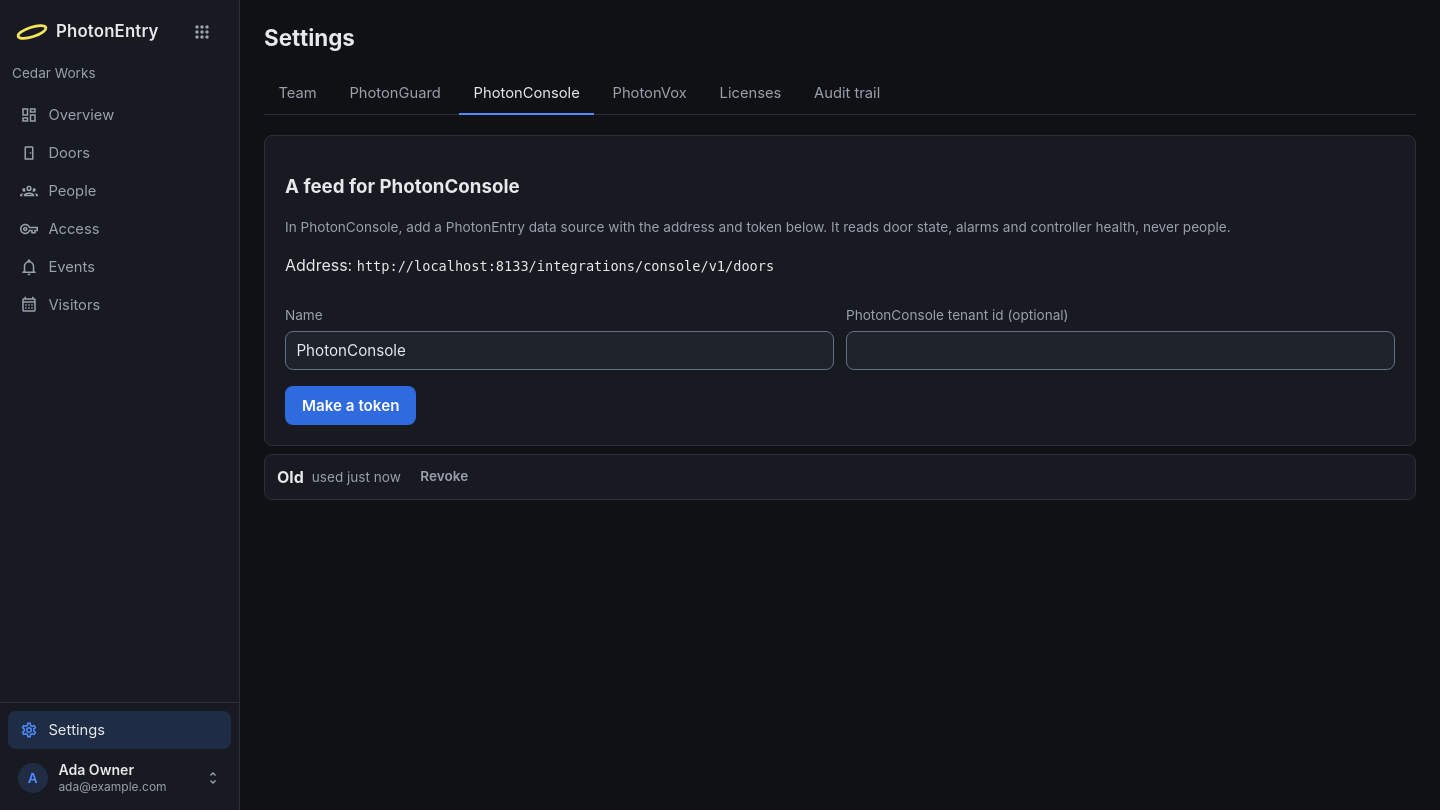
PhotonConsole settings › makes a token shown once and revokes one
Check: the text "Old" is shown, box top-left (277, 465), bottom-right (304, 489)
Type "ct-1" into the field labelled "PhotonConsole tenant id (optional)" at (1120, 351), box top-left (846, 332), bottom-right (1395, 370)
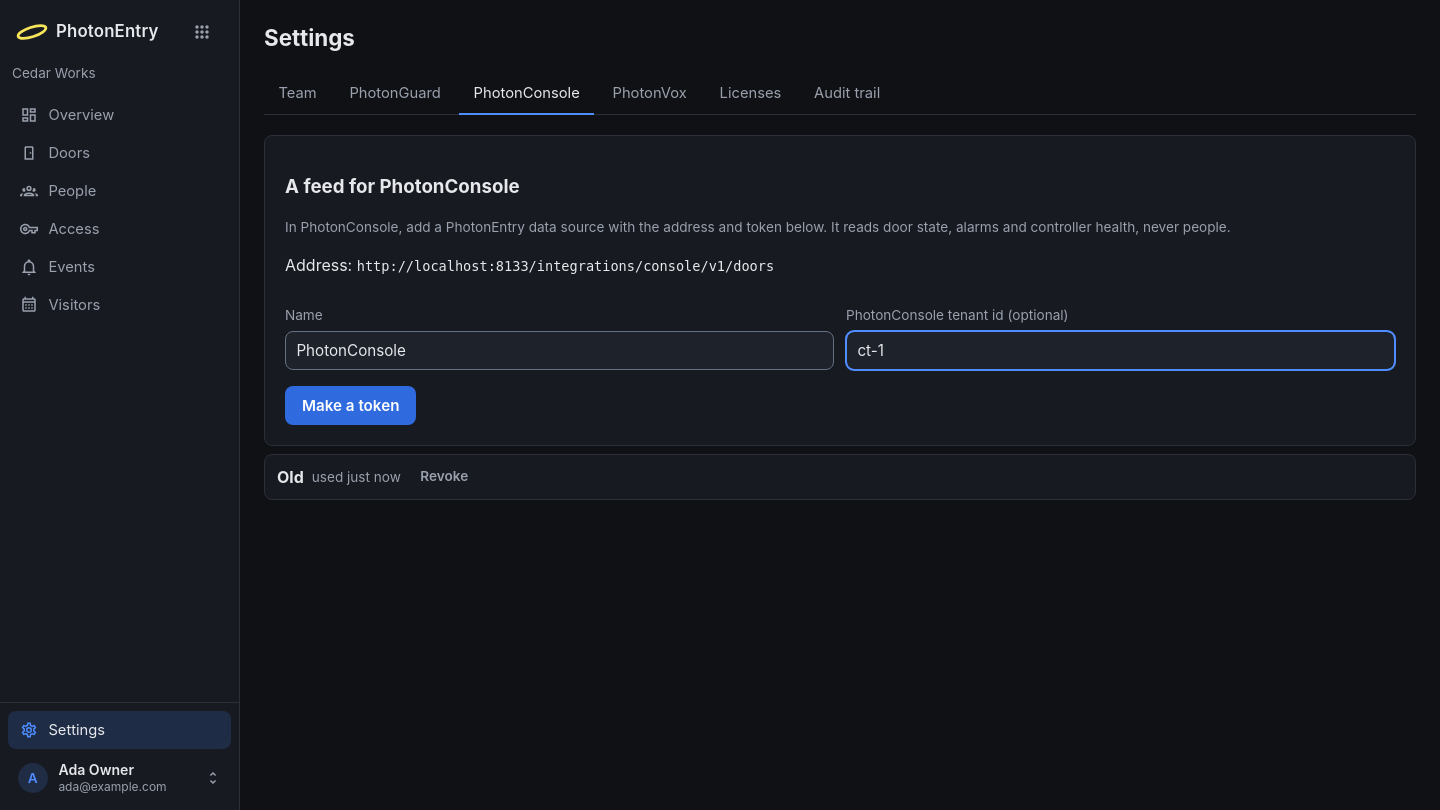
Click the button "Make a token" at (351, 405), box top-left (285, 386), bottom-right (416, 425)
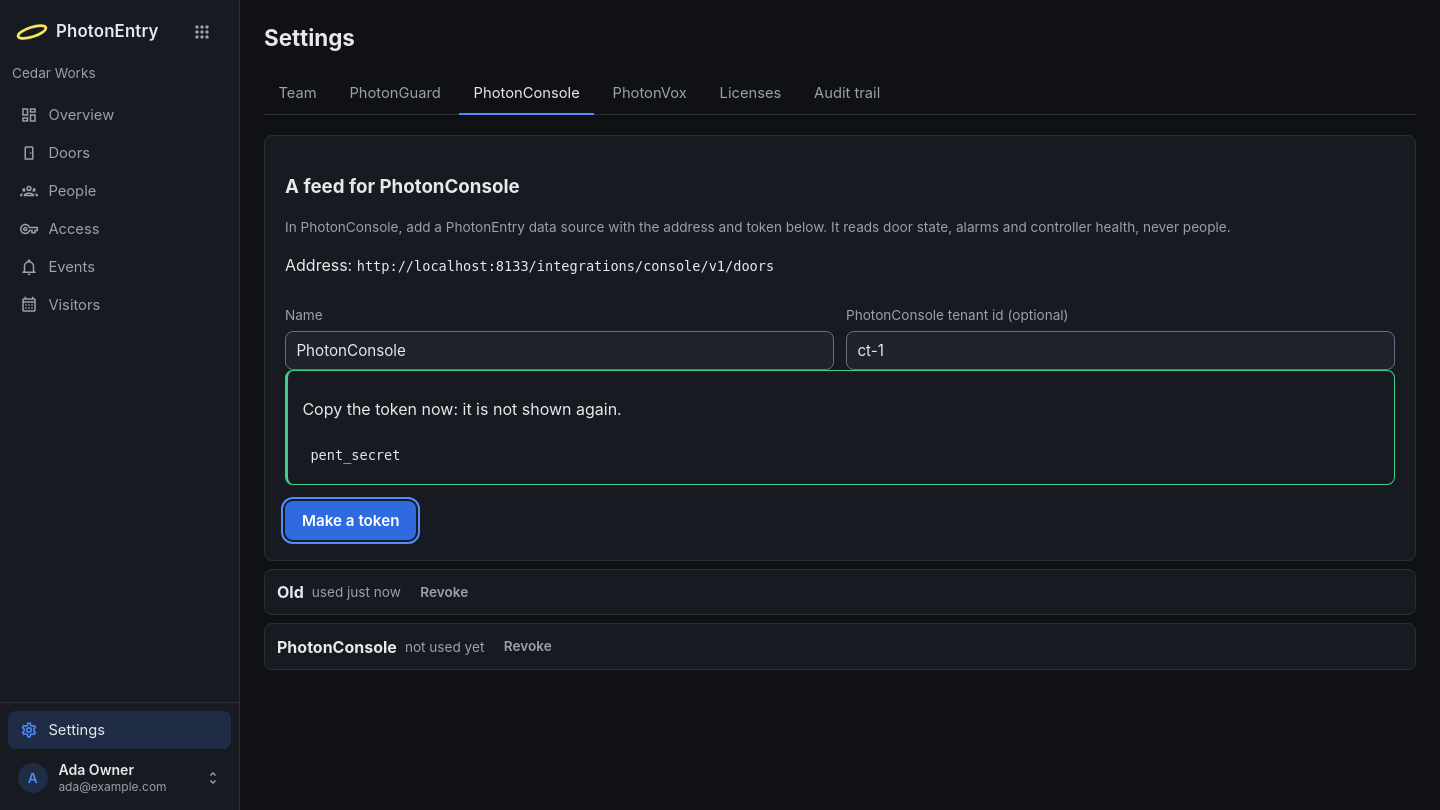
Check: the text "pent_secret" is shown, box top-left (302, 438), bottom-right (1380, 474)
Check: the text "not used yet" is shown, box top-left (405, 636), bottom-right (484, 657)
Click the button "Revoke" in the row of "Old" at (444, 592), box top-left (409, 578), bottom-right (480, 606)
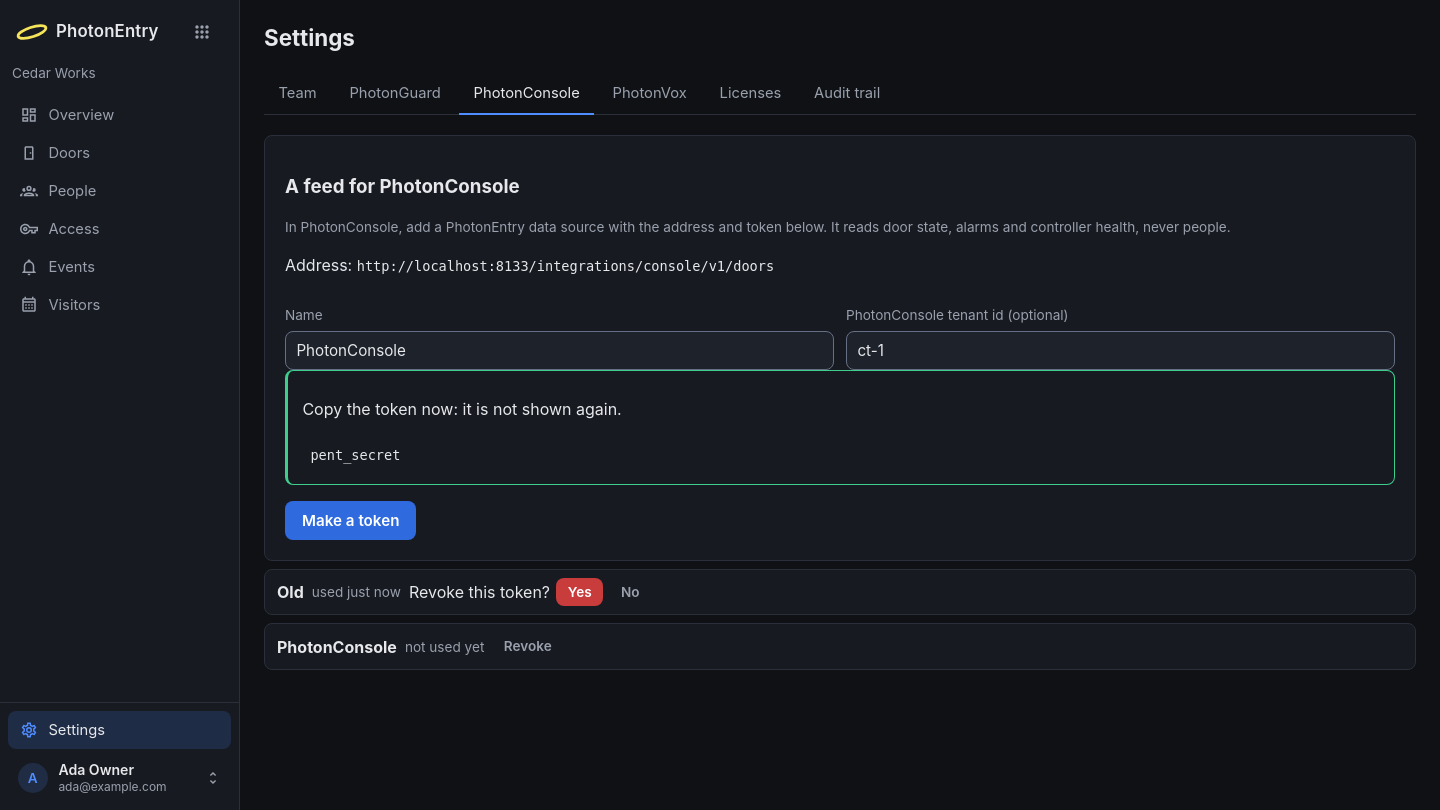
Click the button "Yes" at (580, 592), box top-left (556, 578), bottom-right (603, 606)
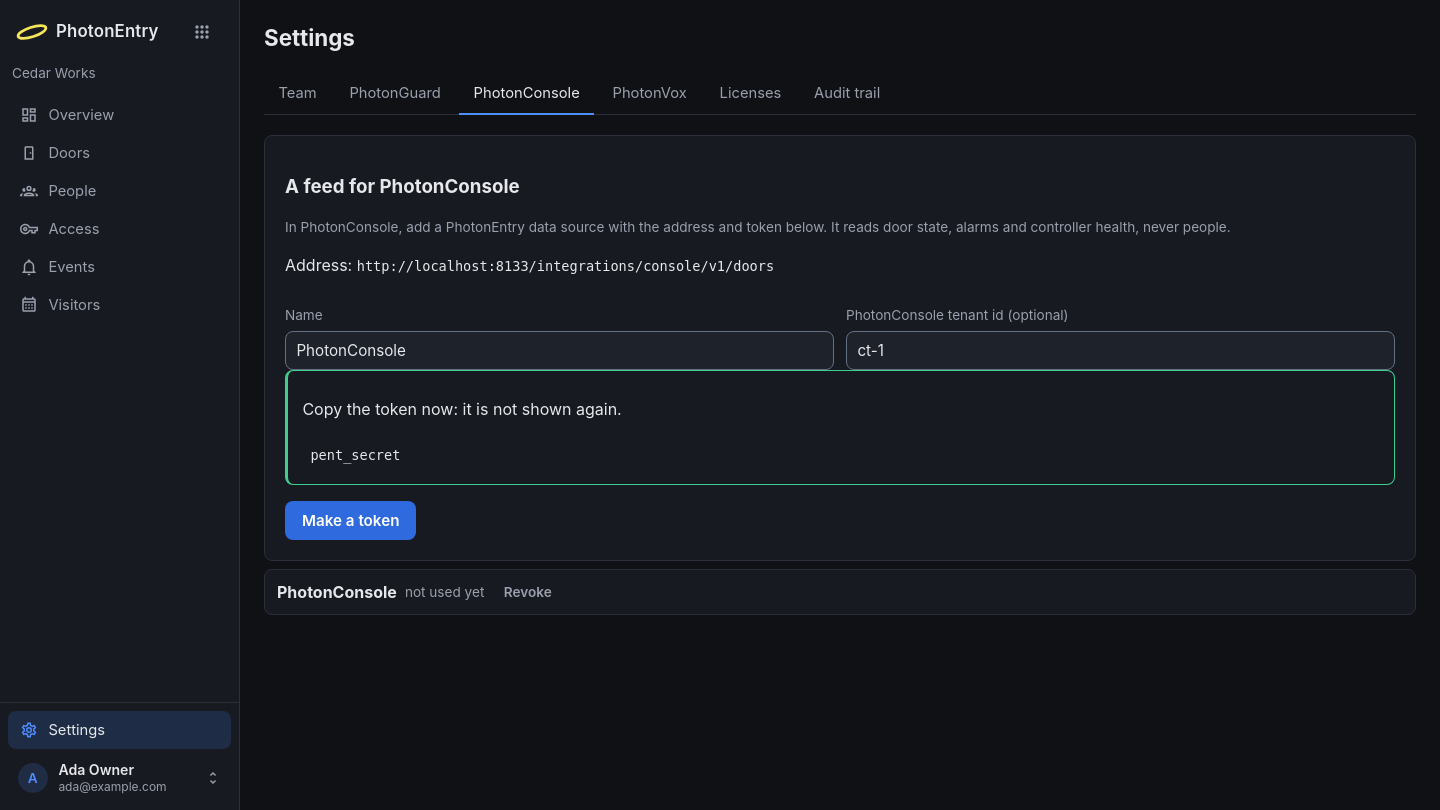
Check: the text "Copy the token now: it is not shown again." is shown, box top-left (302, 400), bottom-right (622, 420)
Check: the text "PhotonConsole" is shown, box top-left (277, 580), bottom-right (397, 604)
Check: the text "Old" is gone
